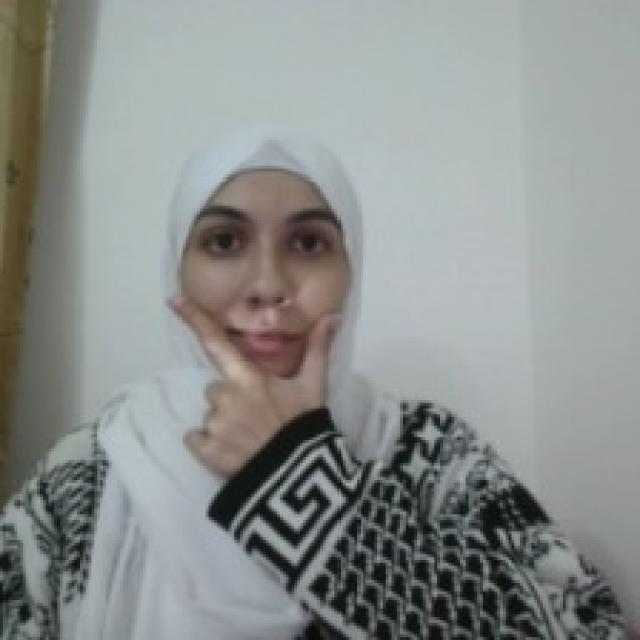smile: (159, 289, 348, 433)
